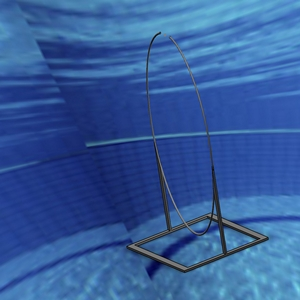circle: (126, 30, 268, 273)
